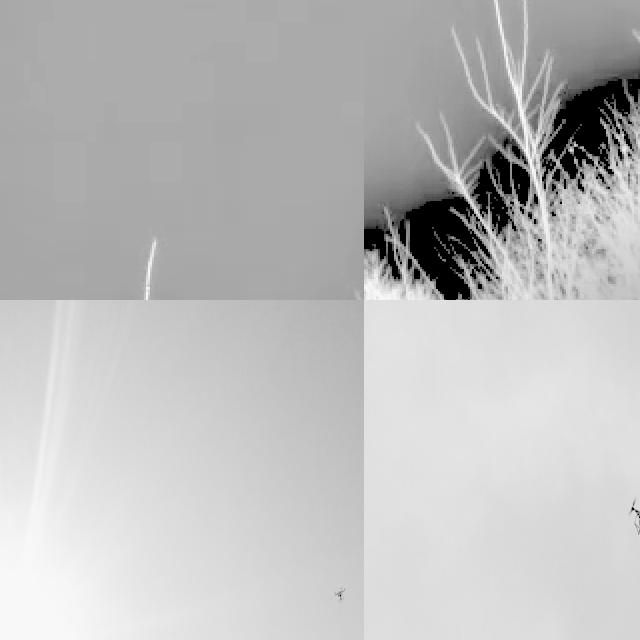drone: (625, 486, 640, 538), (331, 582, 348, 607)
